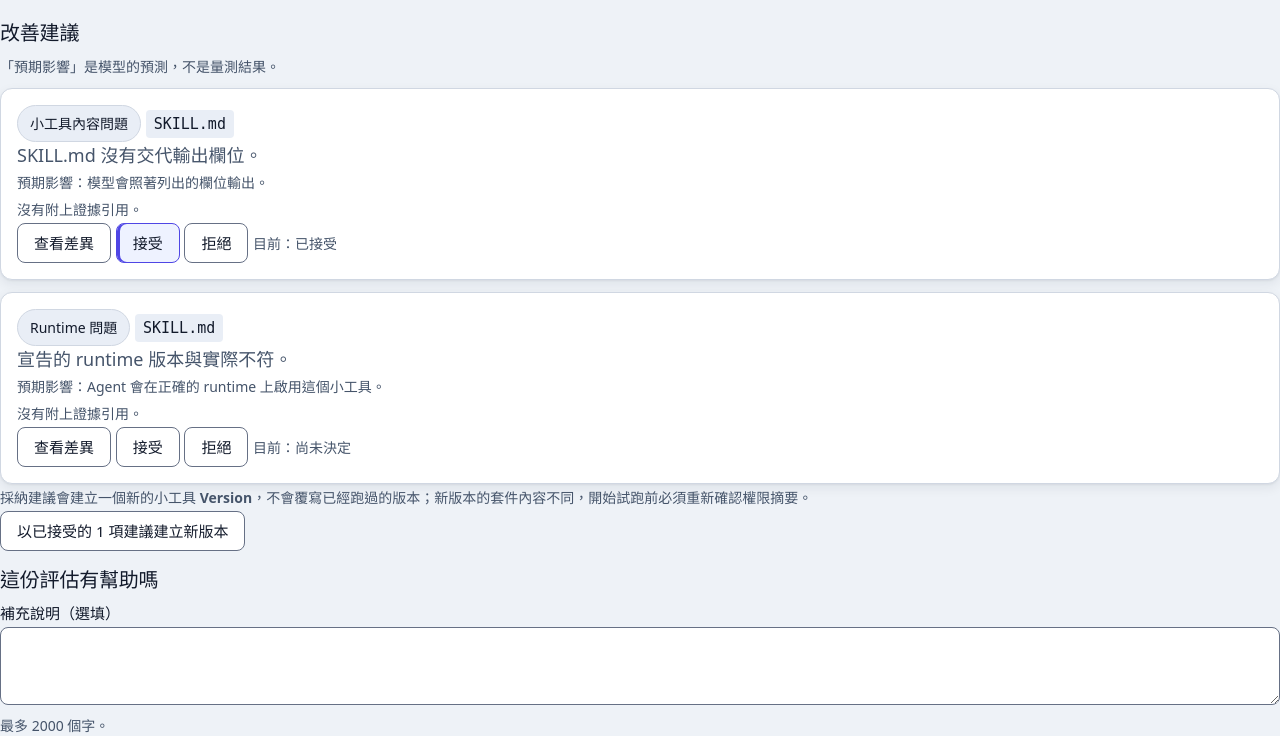
Test case: EVAL-011 a run whose test case no longer resolves says so instead of inventing an id
This screenshot has width=1280, height=736.
(page scrolled)
Click the button "以已接受的 1 項建議建立新版本" at (123,531), box [0,511,245,551]
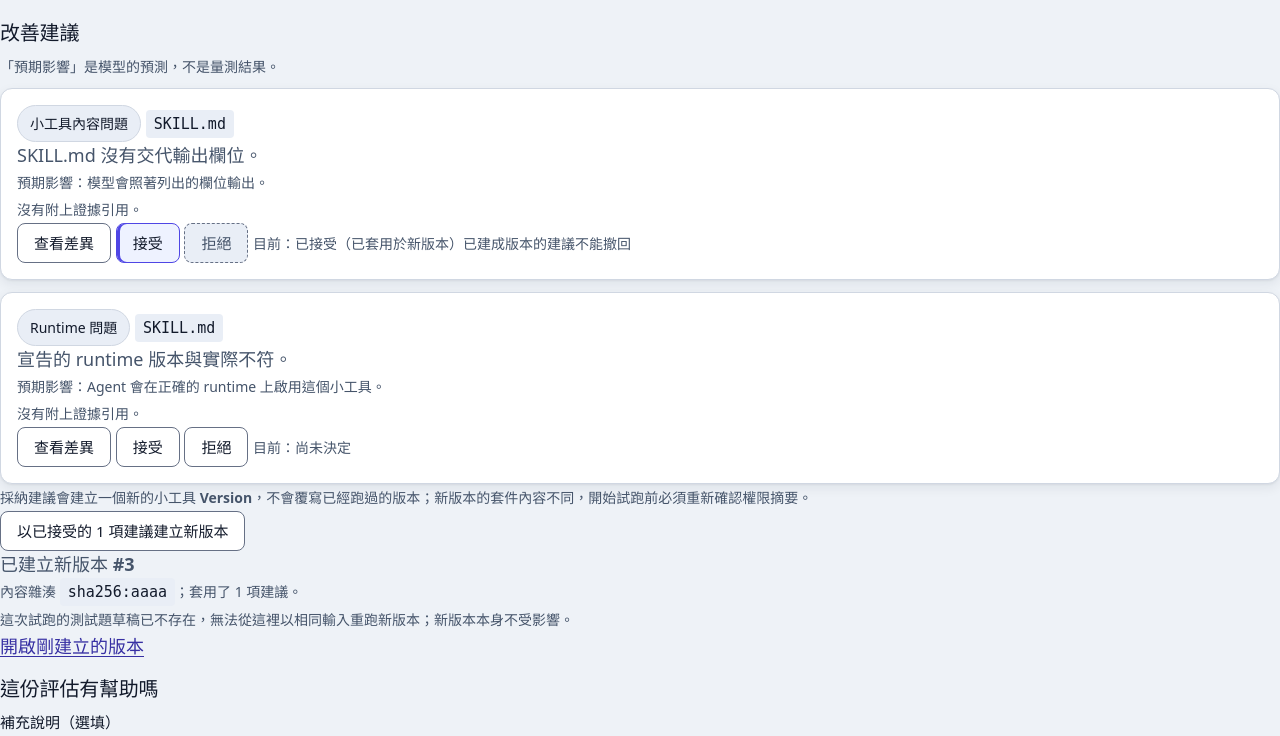
Check: the text "無法從這裡以相同輸入重跑新版本" is shown, box [0,610,574,629]
Check: the text "已建立新版本" is shown, box [0,552,113,576]
